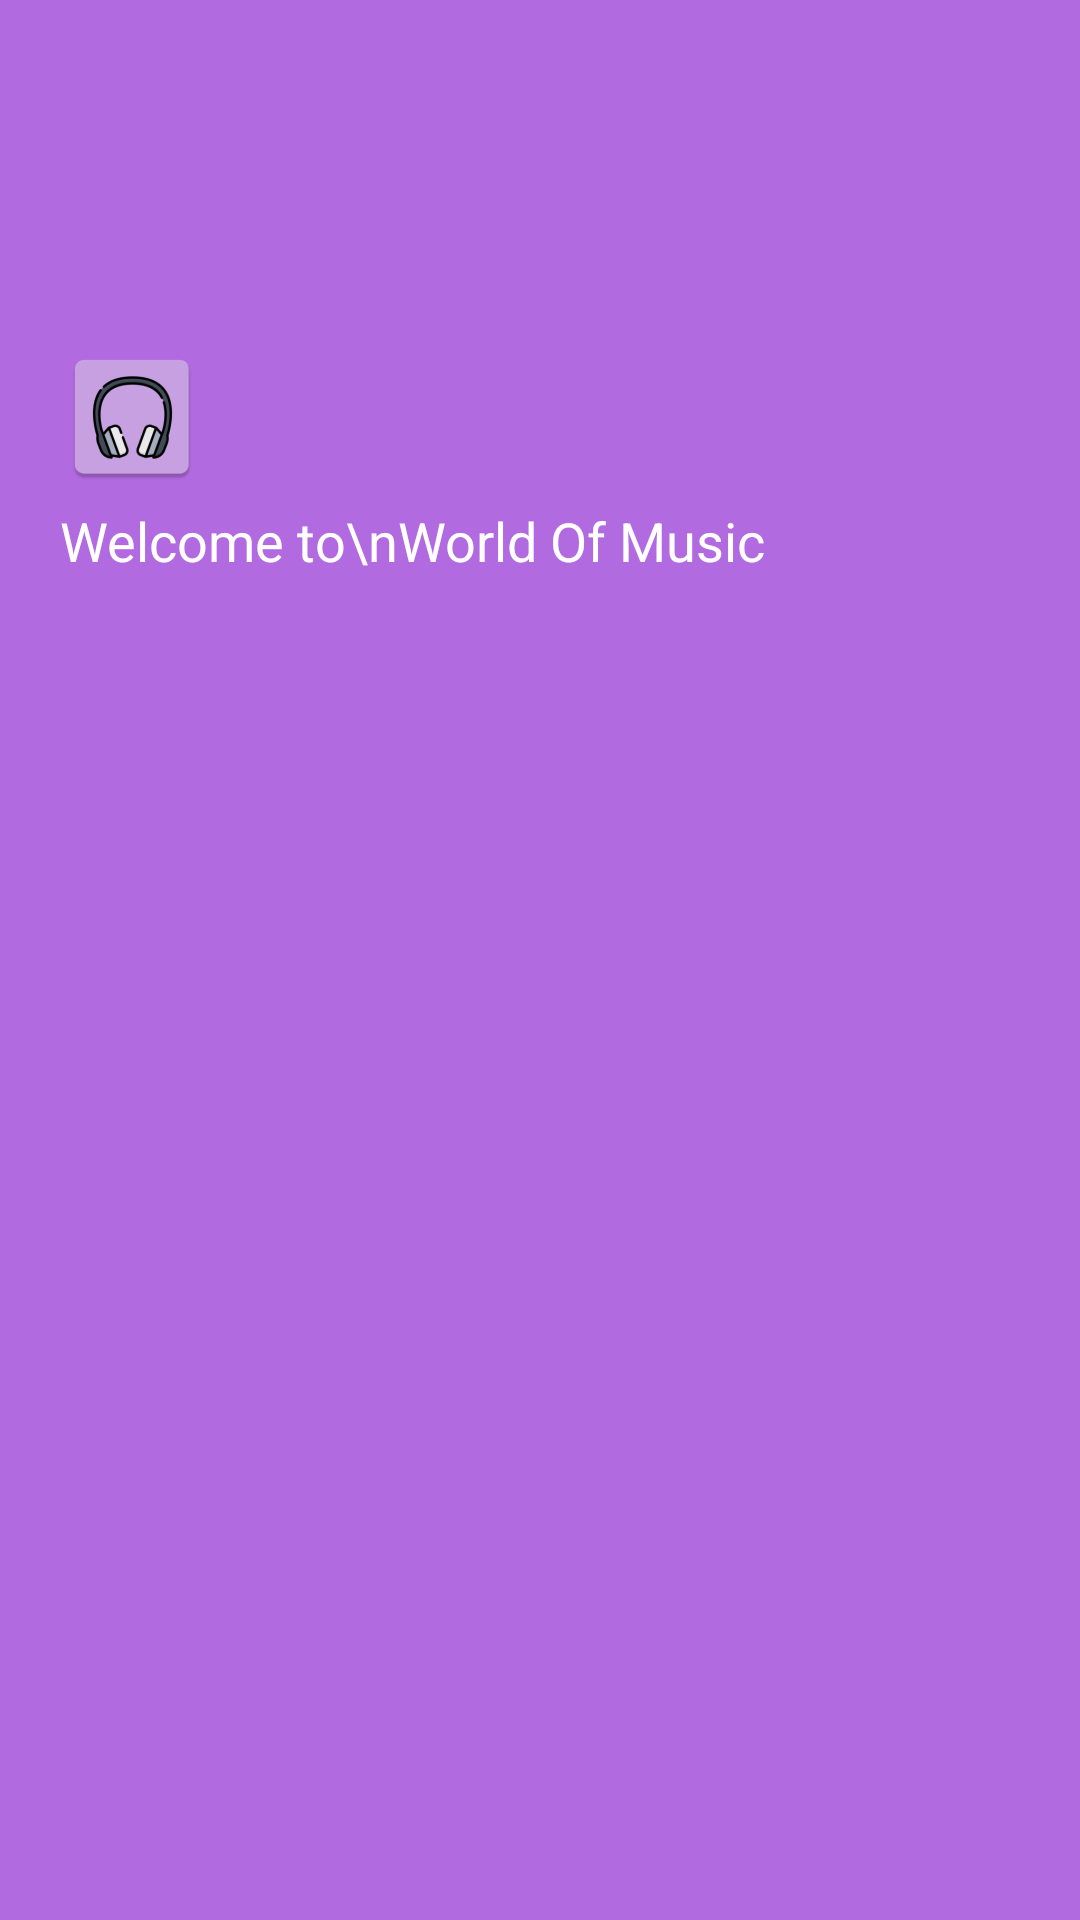

Locate icon controls on the screen. Image size 1080*1920, boxes as (x1, y1, x2, y2).
heaadphone: (75, 360, 190, 477)
